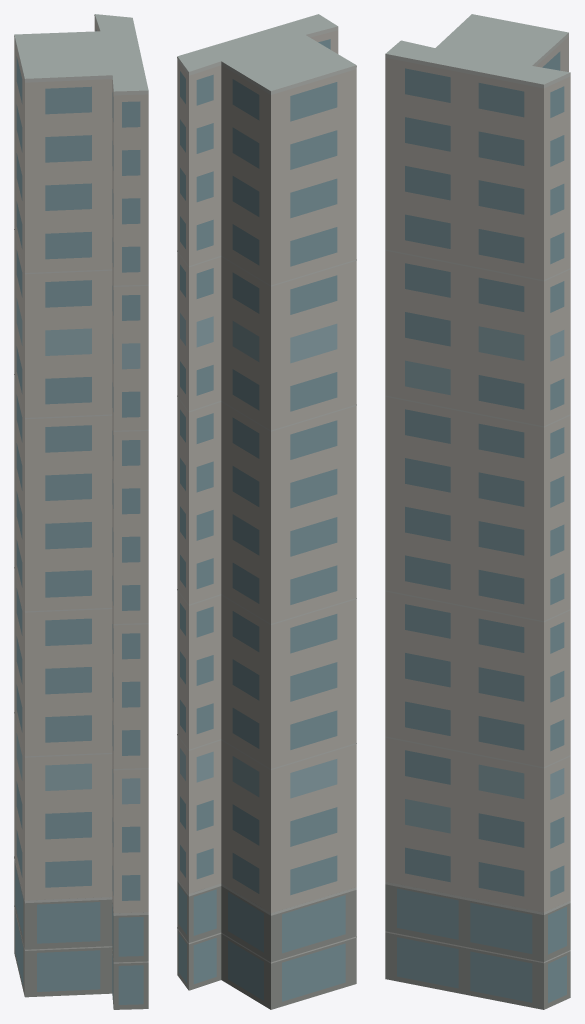
File: survey-upis-32647604.glb
The picture shows the model from 3 angles, left to right: view 1: azimuth 30°, elevation 25°; view 2: azimuth 150°, elevation 25°; view 3: azimuth 270°, elevation 25°; orthographic projection.
Visible parts, largest first — view 1: survey-upis-32647604.tmp; view 2: survey-upis-32647604.tmp; view 3: survey-upis-32647604.tmp.
Boxes of the visible parts, x1,y1,x2,y2 form: survey-upis-32647604.tmp: (14, 14, 148, 1009); survey-upis-32647604.tmp: (177, 14, 356, 1009); survey-upis-32647604.tmp: (385, 14, 570, 1009).
Bounding box in the file's own units: 9.51 × 57.95 × 10.53.
